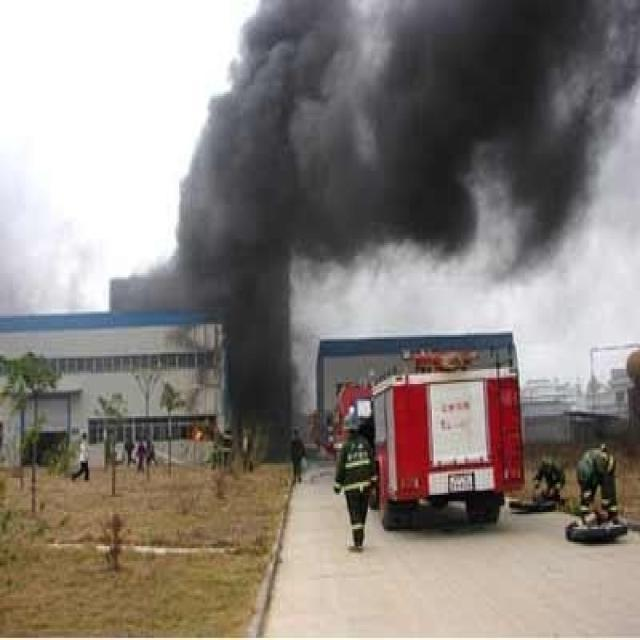Smoke: (110, 2, 640, 429)
